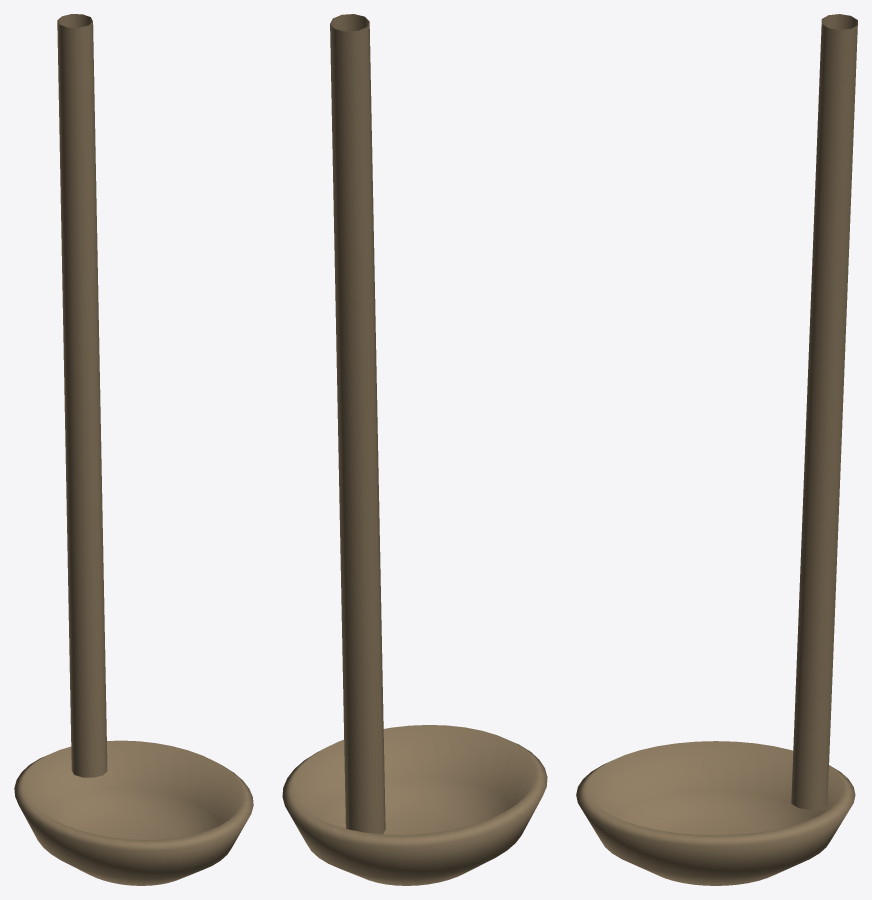
The model's file is soup_ladle.glb.
3 views of the same model, side by side, from view 1: azimuth 30°, elevation 25°; view 2: azimuth 150°, elevation 25°; view 3: azimuth 270°, elevation 25° (orthographic). The views are drawn at different scales.
Parts seen in each view (by area): view 1: LadleHandle, LadleCup; view 2: LadleHandle, LadleCup; view 3: LadleHandle, LadleCup.
Part boxes in pixels (box(x1,y1,x2,y2)): LadleHandle: box(57, 14, 107, 777); LadleCup: box(14, 740, 253, 885); LadleHandle: box(330, 14, 385, 834); LadleCup: box(282, 725, 547, 885); LadleHandle: box(791, 14, 857, 809); LadleCup: box(576, 741, 855, 885).
Bounding box in the file's own units: 0.096 × 0.3663 × 0.1113.
